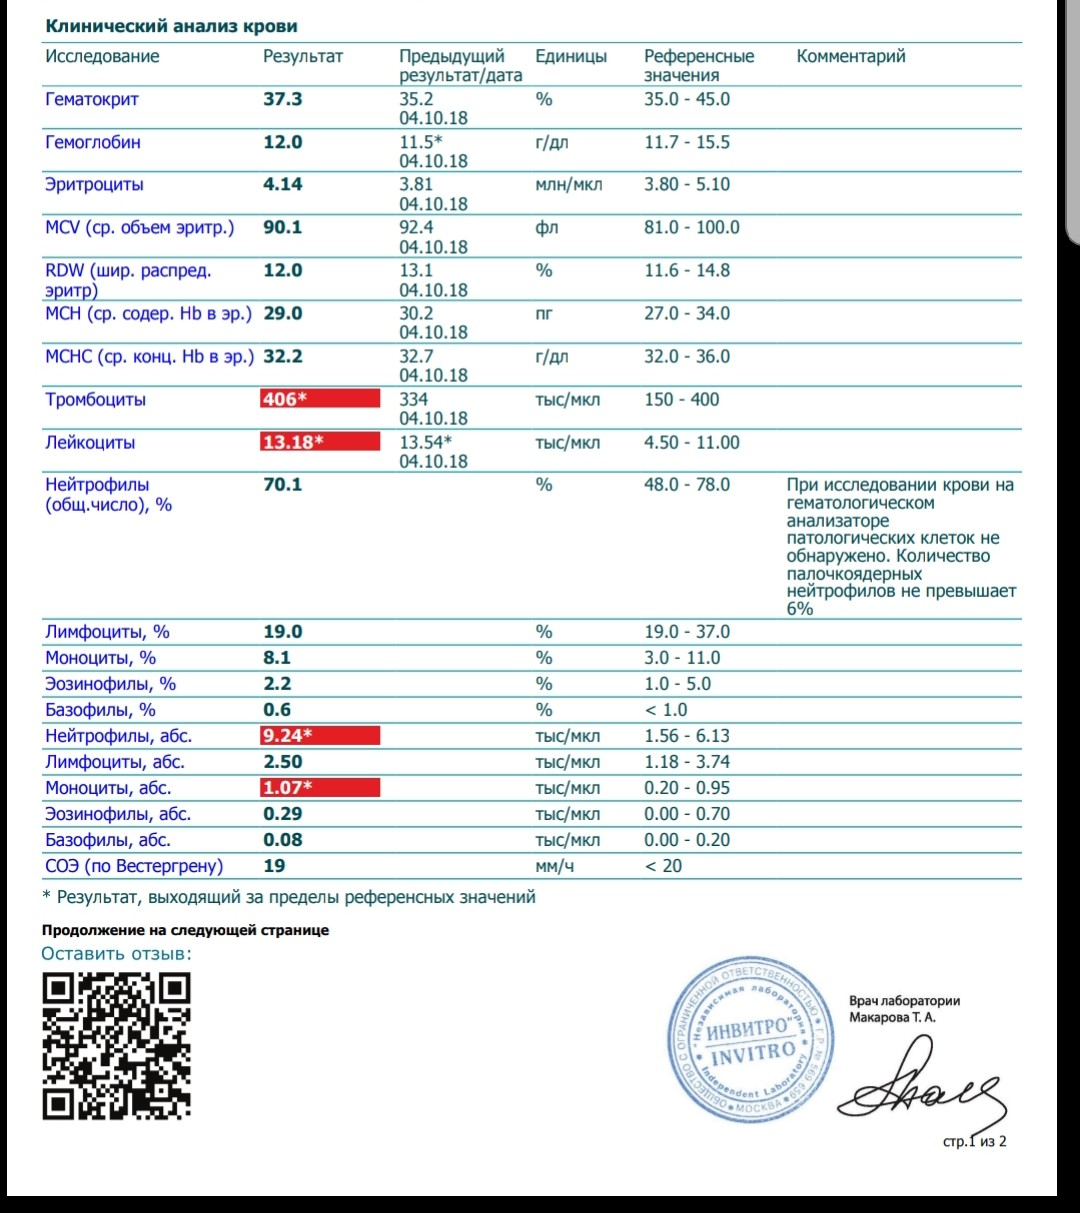column: (785, 42, 1018, 878), (44, 42, 254, 878), (398, 42, 523, 878), (643, 42, 755, 878), (262, 42, 344, 878), (534, 42, 608, 878)
